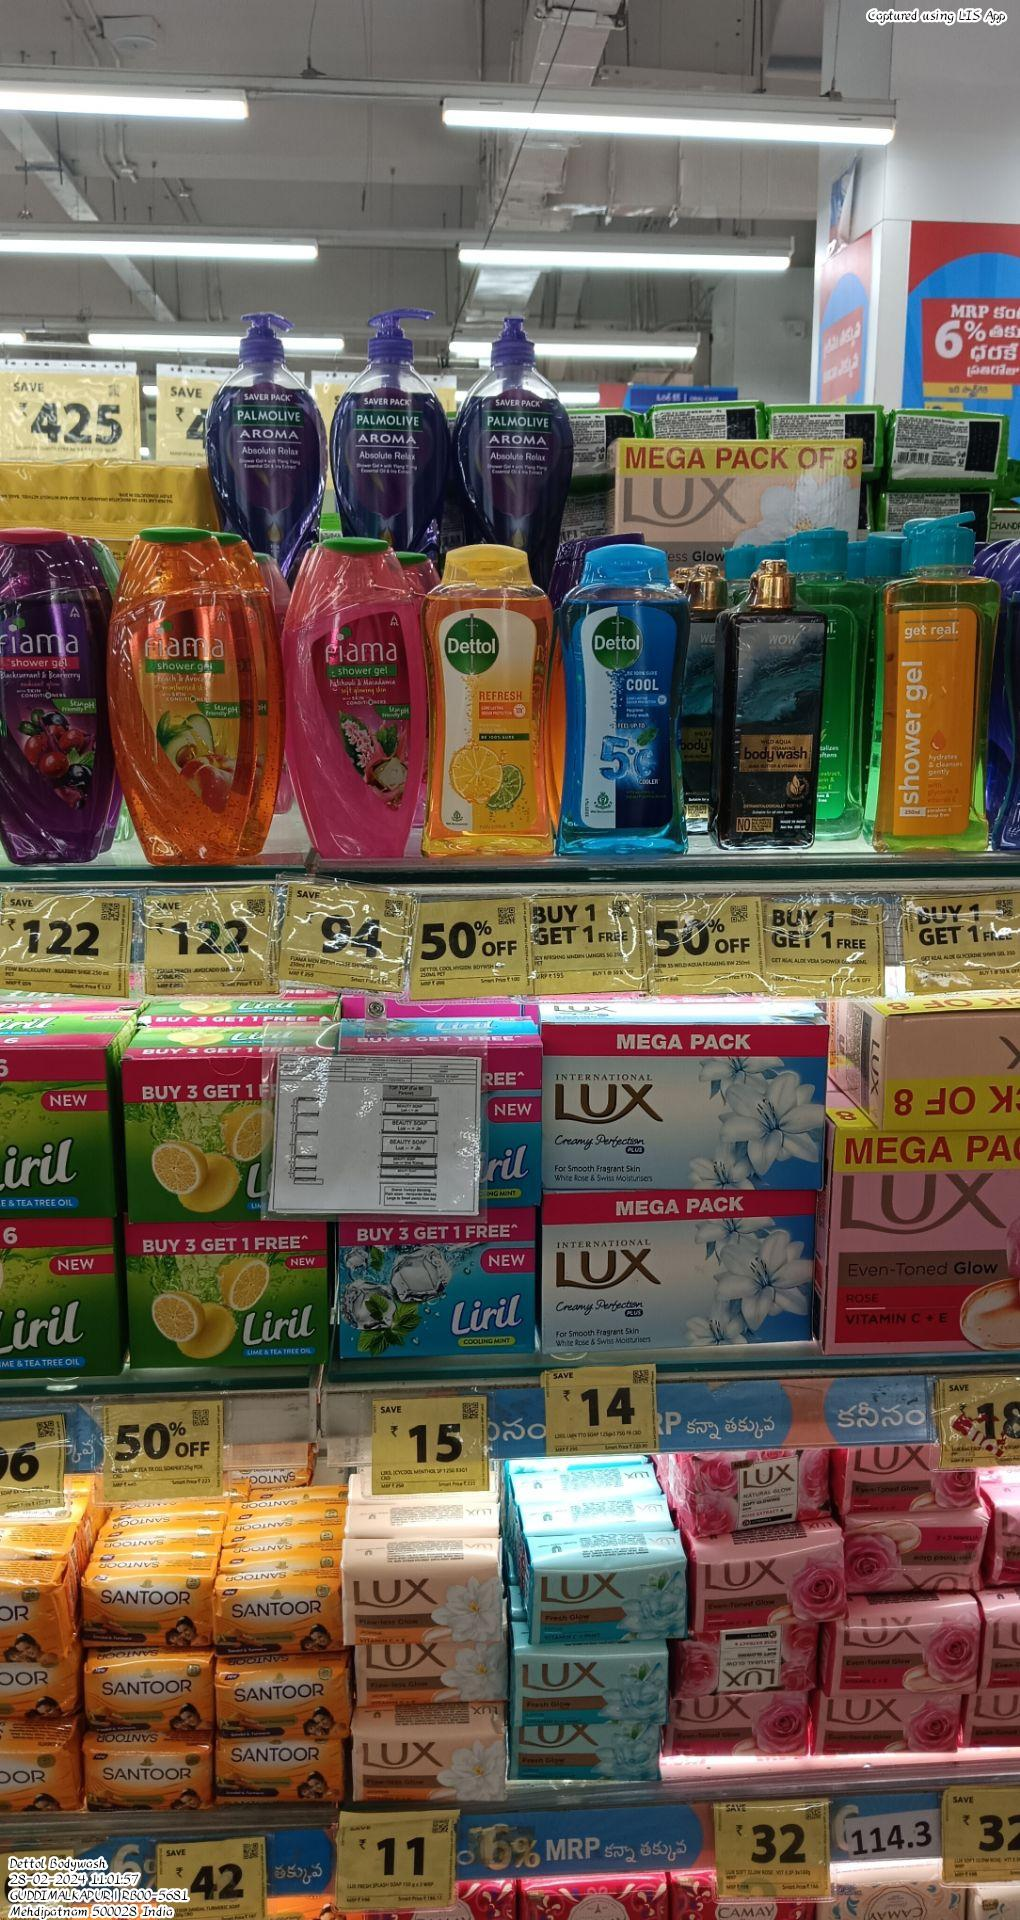Dettol_Bodywash_Cool: (567, 533, 683, 867)
Dettol_Bodywash_Refresh: (426, 547, 555, 866)
Fiama_Shower_Gel_Patchouli_and_Macadamia_250ML: (291, 528, 417, 862)
Fiama_Shower_Gel_Peach_and_Avocado_250ML: (121, 528, 244, 861)
